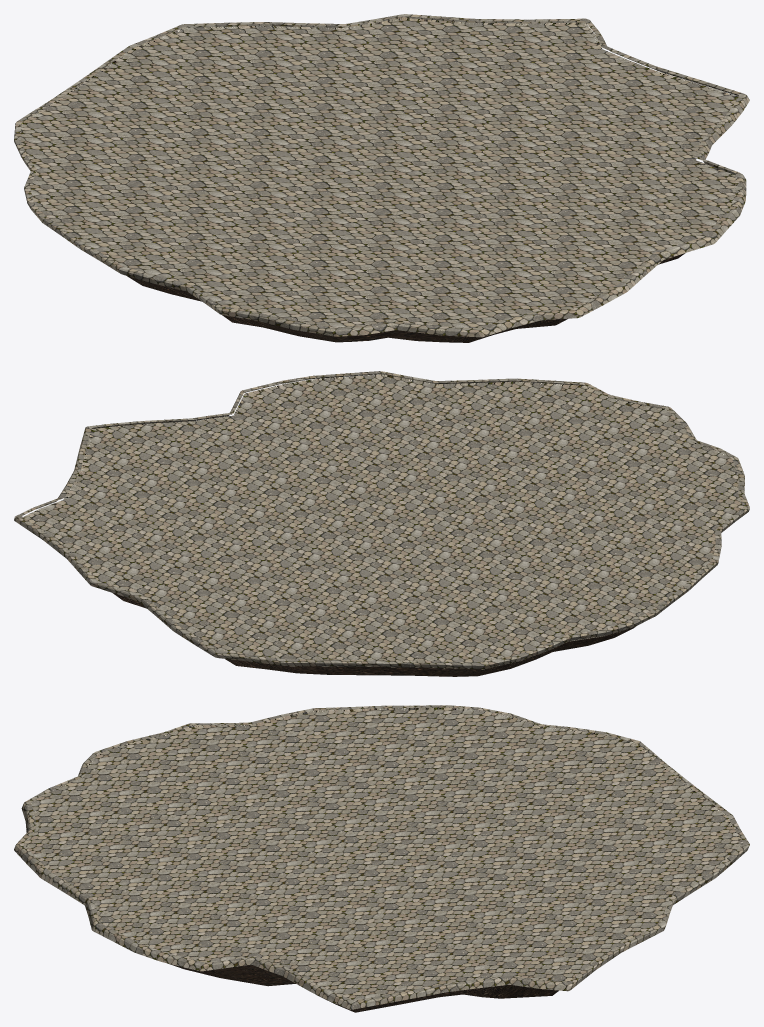
File: temple-island.glb
3 renders of one model, top to bottom at view 1: azimuth 30°, elevation 25°; view 2: azimuth 150°, elevation 25°; view 3: azimuth 270°, elevation 25°, orthographic. The views are drawn at different scales.
Visible parts, largest first — view 1: Circle, Circle.001; view 2: Circle, Circle.001; view 3: Circle, Circle.001.
Boxes of the visible parts, box(x1,y1,x2,y2) form: Circle: box(20, 18, 738, 342); Circle.001: box(14, 14, 749, 337); Circle: box(23, 374, 743, 676); Circle.001: box(14, 371, 749, 668); Circle: box(23, 707, 743, 1012); Circle.001: box(14, 705, 749, 1009).
Bounding box in the file's own units: 2.11 × 0.3112 × 2.19.
3 materials, 3 textured.
